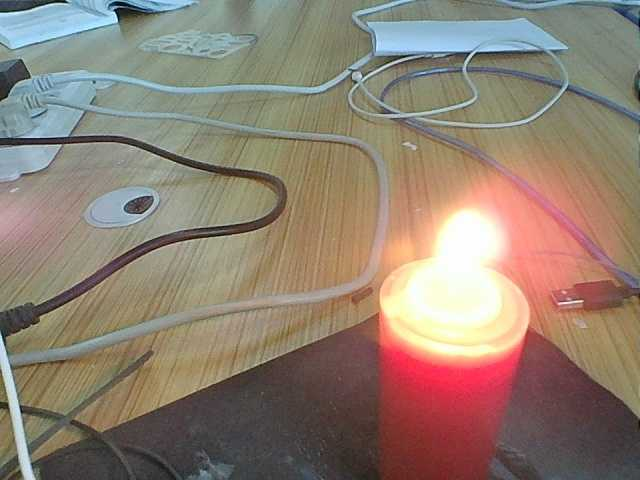candle: (359, 350, 526, 478)
fire: (387, 203, 527, 347)
